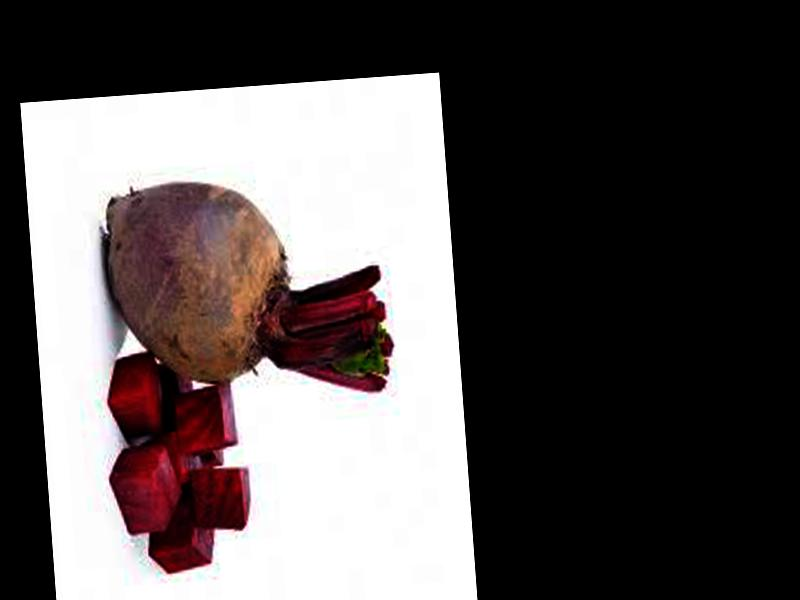Beet: (100, 169, 394, 410)
